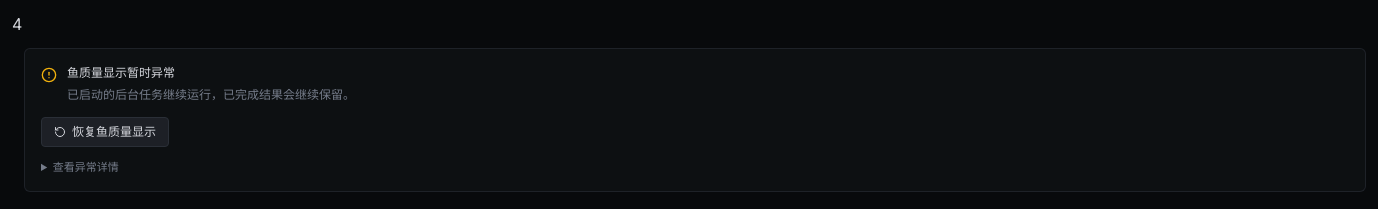
Scenario: keeps the task owner and its progress alive through a display failure and local recovery
Check: the message shows "已启动的后台任务继续运行", box [67,87,355,102]
Check: the text with test id "background-progress" reads "4", box [12,14,22,34]
Click the button "恢复鱼质量显示": (105, 132) [41,116,169,146]
Wait 100 ms
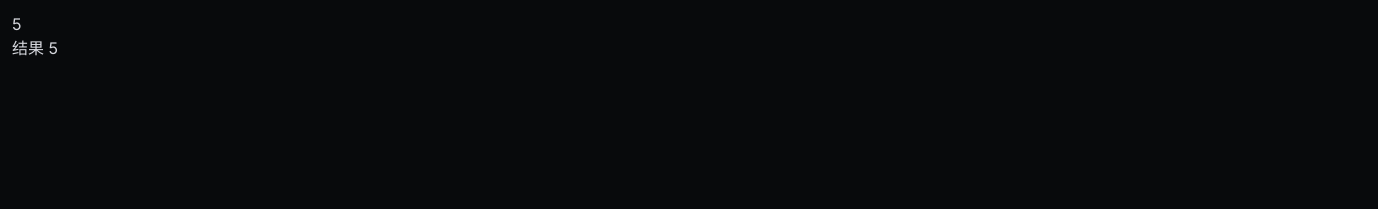
Check: the text "结果 5" is shown, box [12,38,58,58]
